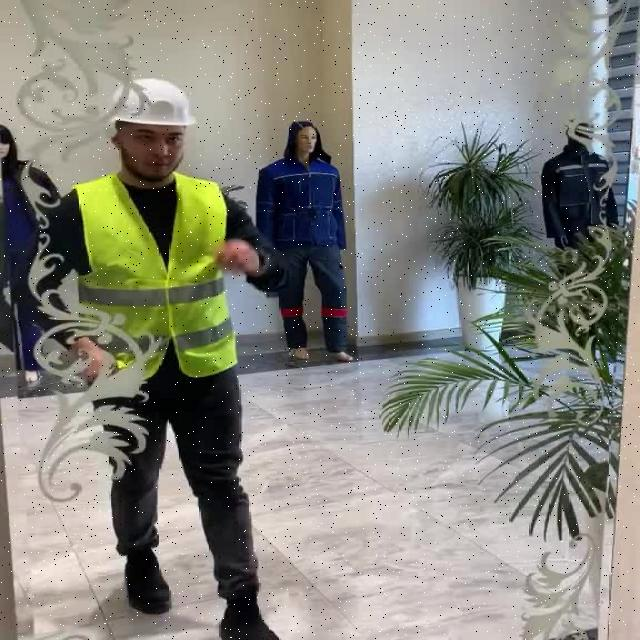Vest: (68, 174, 233, 380)
